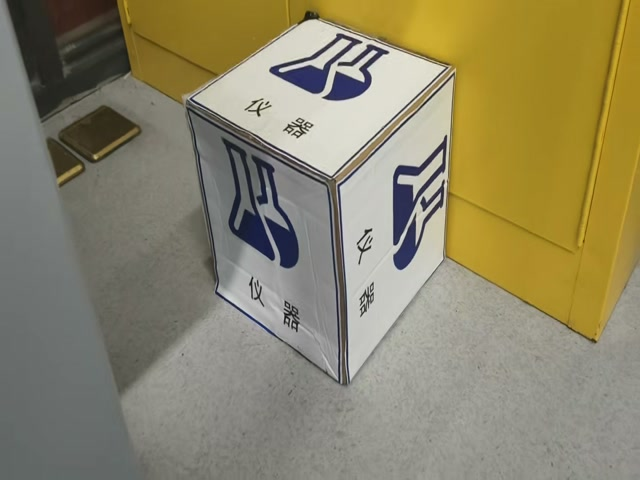Cube_ins: (184, 13, 454, 178)
